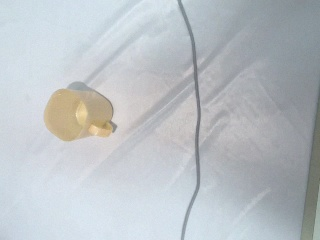cup: (42, 86, 116, 144)
